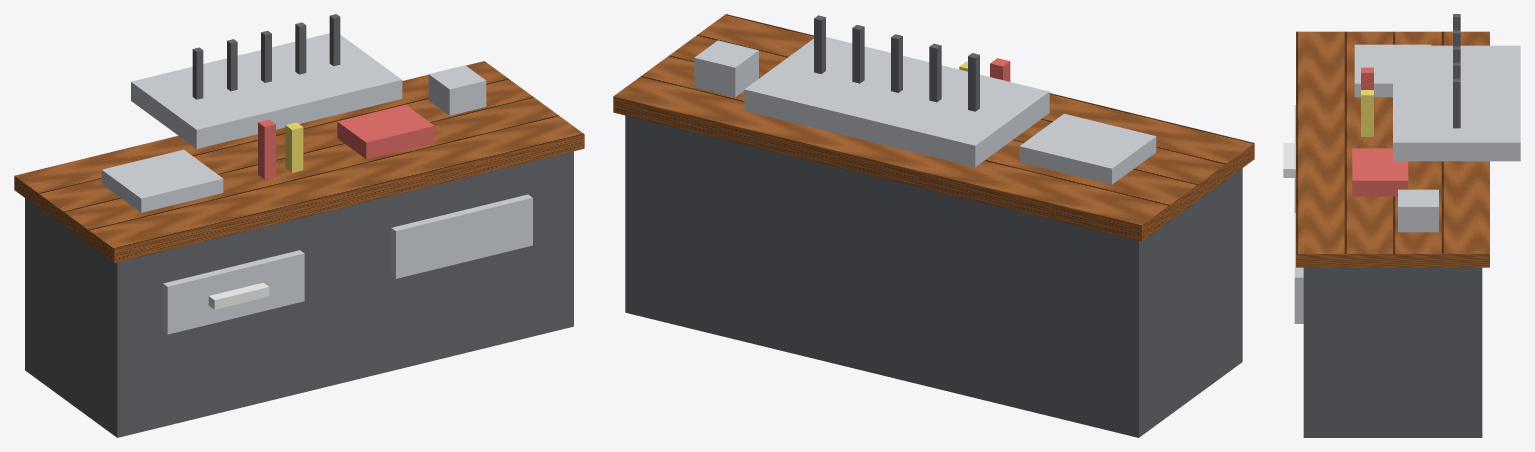
The model's file is velodrome-and-track-cycling-mechanics-bench-with-tools-ae22ca79__38022.glb.
3 renders of one model, left to right at view 1: azimuth 30°, elevation 25°; view 2: azimuth 150°, elevation 25°; view 3: azimuth 270°, elevation 25°, orthographic. The views are drawn at different scales.
Parts seen in each view (by area): view 1: mechanics-bench-with-tools-charcoal, mechanics-bench-with-tools-board, mechanics-bench-with-tools-steel, drawer-bench/steel, mechanics-bench-with-tools-red, drawer-bench/chalk, mechanics-bench-with-tools-canary; view 2: mechanics-bench-with-tools-charcoal, mechanics-bench-with-tools-board, mechanics-bench-with-tools-steel; view 3: mechanics-bench-with-tools-charcoal, mechanics-bench-with-tools-board, mechanics-bench-with-tools-steel, mechanics-bench-with-tools-red, mechanics-bench-with-tools-canary, drawer-bench/chalk.
Boxes of the visible parts, <box> form: mechanics-bench-with-tools-charcoal: <box>25,14,573,437</box>; mechanics-bench-with-tools-board: <box>14,61,584,263</box>; mechanics-bench-with-tools-steel: <box>101,33,532,278</box>; drawer-bench/steel: <box>163,250,304,334</box>; mechanics-bench-with-tools-red: <box>258,104,434,179</box>; drawer-bench/chalk: <box>208,282,269,309</box>; mechanics-bench-with-tools-canary: <box>285,122,303,172</box>; mechanics-bench-with-tools-charcoal: <box>625,15,1242,437</box>; mechanics-bench-with-tools-board: <box>613,14,1254,241</box>; mechanics-bench-with-tools-steel: <box>694,37,1156,184</box>; mechanics-bench-with-tools-charcoal: <box>1303,14,1482,437</box>; mechanics-bench-with-tools-board: <box>1296,31,1489,267</box>; mechanics-bench-with-tools-steel: <box>1294,44,1520,323</box>; mechanics-bench-with-tools-red: <box>1352,67,1408,196</box>; mechanics-bench-with-tools-canary: <box>1361,90,1373,136</box>; drawer-bench/chalk: <box>1283,143,1294,177</box>.
Bounding box in the file's own units: 2.06 × 1.22 × 0.9301.
6 materials, 1 textured.
